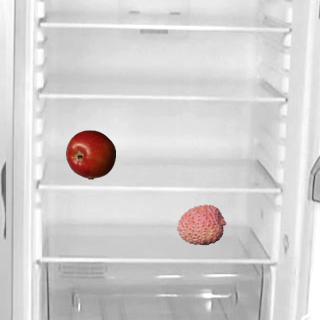Apple Braeburn: (65, 129, 115, 179)
Lychee: (176, 199, 226, 249)
